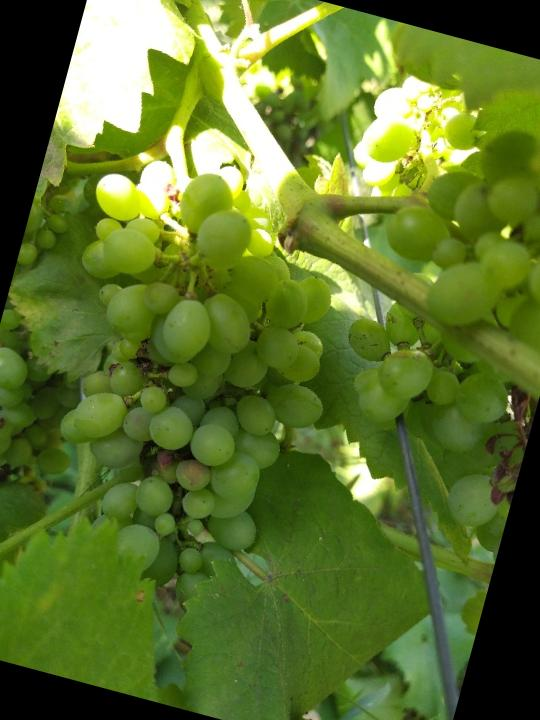grape: (0, 129, 384, 633)
